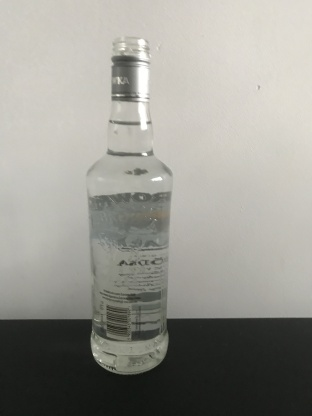nakretka: (109, 34, 152, 104)
